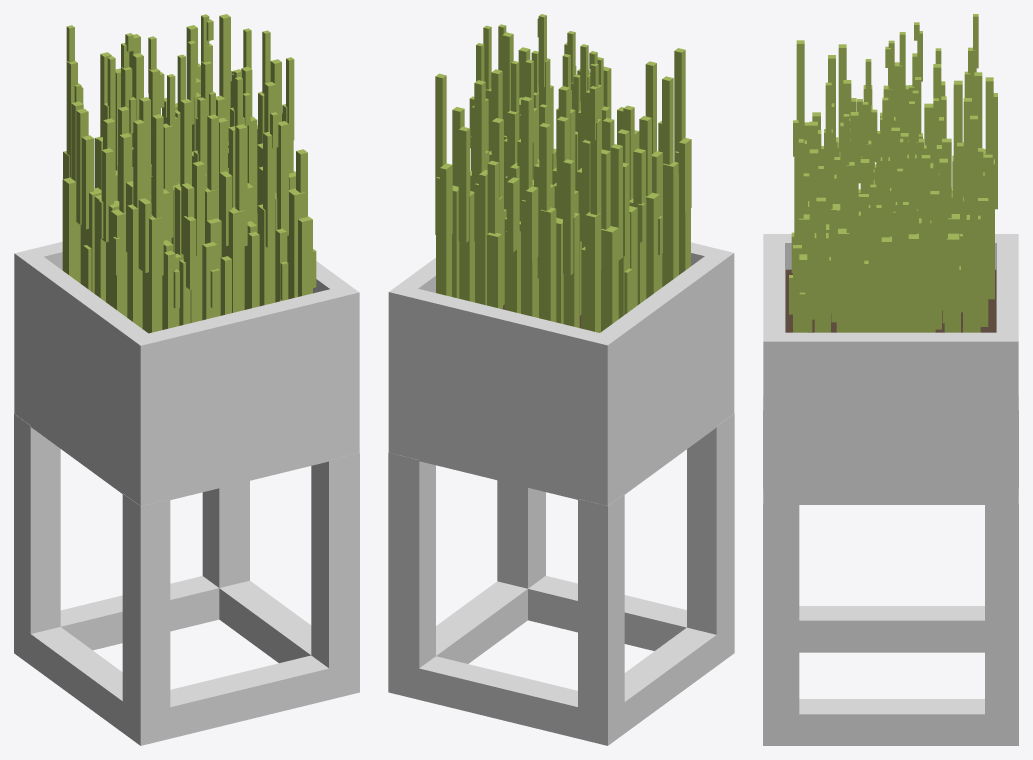
The model's file is plant04_05.gltf.
The picture shows the model from 3 angles, left to right: view 1: azimuth 30°, elevation 25°; view 2: azimuth 150°, elevation 25°; view 3: azimuth 270°, elevation 25°; orthographic projection.
Parts seen in each view (by area): view 1: pot02, pot, pCube145, plant04_stage04:plant04_stage03:pCube62, plant04_stage04:pCube84, plant04_stage04:plant04_stage03:pCube79, plant04_stage04:plant04_stage03:pCube48, pCube11, pCube143, plant04_stage04:plant04_stage03:pCube72, pCube12, plant04_stage04:plant04_stage03:pCube101 (+36 smaller); view 2: pot02, pot, plant04_stage04:pCube84, plant04_stage04:plant04_stage03:pCube50, plant04_stage04:pCube154, plant04_stage04:plant04_stage03:pCube62, plant04_stage04:plant04_stage03:pCube90, plant04_stage04:plant04_stage03:pCube48, plant04_stage04:plant04_stage03:pCube69, plant04_stage04:plant04_stage03:pCube51, plant04_stage04:plant04_stage03:pCube142, plant04_stage04:plant04_stage03:pCube89 (+37 smaller); view 3: pot02, pot, plant04_stage04:plant04_stage03:pCube88, plant04_stage04:plant04_stage03:pCube86, plant04_stage04:pCube1, pCube61, plant04_stage04:pCube163, plant04_stage04:plant04_stage03:pCube17, plant04_stage04:plant04_stage03:pCube101, plant04_stage04:plant04_stage03:pCube16, plant04_stage04:pCube134, plant04_stage04:plant04_stage03:pCube85 (+48 smaller).
Part boxes in pixels (<box>): pot02: <box>14,241,359,505</box>; pot: <box>14,414,359,745</box>; pCube145: <box>146,215,162,333</box>; plant04_stage04:plant04_stage03:pCube62: <box>62,177,80,283</box>; plant04_stage04:pCube84: <box>127,204,142,328</box>; plant04_stage04:plant04_stage03:pCube79: <box>226,207,244,312</box>; plant04_stage04:plant04_stage03:pCube48: <box>111,209,127,317</box>; pCube11: <box>263,131,275,247</box>; pCube143: <box>152,114,163,275</box>; plant04_stage04:plant04_stage03:pCube72: <box>276,121,288,235</box>; pCube12: <box>257,204,275,306</box>; plant04_stage04:plant04_stage03:pCube101: <box>287,188,304,299</box>; pot02: <box>388,242,734,505</box>; pot: <box>388,413,734,745</box>; plant04_stage04:pCube84: <box>662,161,678,286</box>; plant04_stage04:plant04_stage03:pCube50: <box>540,207,556,322</box>; plant04_stage04:pCube154: <box>585,212,600,332</box>; plant04_stage04:plant04_stage03:pCube62: <box>601,226,618,331</box>; plant04_stage04:plant04_stage03:pCube90: <box>458,126,470,242</box>; plant04_stage04:plant04_stage03:pCube48: <box>646,192,659,298</box>; plant04_stage04:plant04_stage03:pCube69: <box>563,159,574,275</box>; plant04_stage04:plant04_stage03:pCube51: <box>563,212,579,327</box>; plant04_stage04:plant04_stage03:pCube142: <box>521,200,537,317</box>; plant04_stage04:plant04_stage03:pCube89: <box>459,191,474,302</box>; pot02: <box>763,234,1018,504</box>; pot: <box>763,396,1018,745</box>; plant04_stage04:plant04_stage03:pCube88: <box>946,233,959,332</box>; plant04_stage04:plant04_stage03:pCube86: <box>970,115,977,279</box>; plant04_stage04:pCube1: <box>905,233,918,332</box>; pCube61: <box>838,228,849,332</box>; plant04_stage04:pCube163: <box>878,236,891,332</box>; plant04_stage04:plant04_stage03:pCube17: <box>921,155,930,270</box>; plant04_stage04:plant04_stage03:pCube101: <box>814,233,828,332</box>; plant04_stage04:plant04_stage03:pCube16: <box>919,218,931,332</box>; plant04_stage04:pCube134: <box>963,98,971,261</box>; plant04_stage04:plant04_stage03:pCube85: <box>939,158,947,275</box>.
Size of the model in its own units: 0.0142 by 0.0404 by 0.0142.
Materials: 2 (1 with a texture image).
